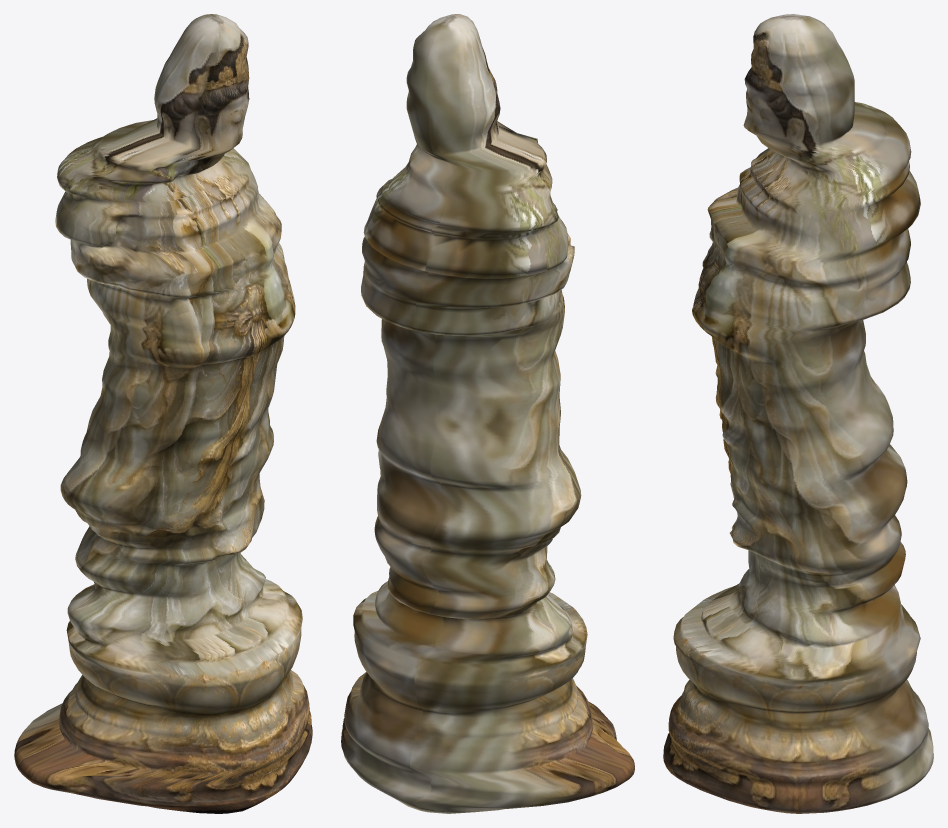
Rendered from guanyin.glb.
3 renders of one model, left to right at view 1: azimuth 30°, elevation 25°; view 2: azimuth 150°, elevation 25°; view 3: azimuth 270°, elevation 25°, orthographic. The views are drawn at different scales.
Visible parts, largest first — view 1: guanyin; view 2: guanyin; view 3: guanyin.
Boxes of the visible parts, box(x1,y1,x2,y2) form: guanyin: box(14, 14, 312, 813); guanyin: box(341, 14, 634, 813); guanyin: box(663, 14, 933, 813).
Size of the model in its own units: 0.3926 by 1 by 0.3195.
1 material, 1 textured.
